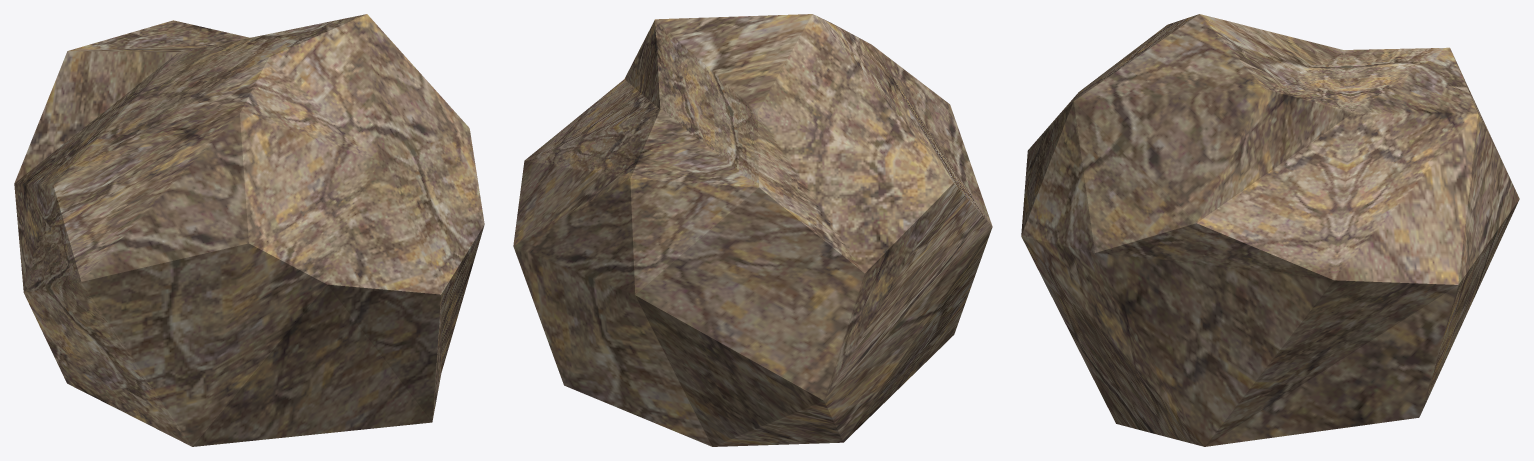
Rendered from C1SNLARGEROCKD_SC.obj.
3 renders of one model, left to right at view 1: azimuth 30°, elevation 25°; view 2: azimuth 150°, elevation 25°; view 3: azimuth 270°, elevation 25°, orthographic. The views are drawn at different scales.
Visible parts, largest first — view 1: Node 0; view 2: Node 0; view 3: Node 0.
Part boxes in pixels (<box>): Node 0: <box>14,14,484,446</box>; Node 0: <box>513,14,992,446</box>; Node 0: <box>1021,14,1519,446</box>.
Bounding box in the file's own units: 13.71 × 11.31 × 14.45.
1 material, 1 textured.
